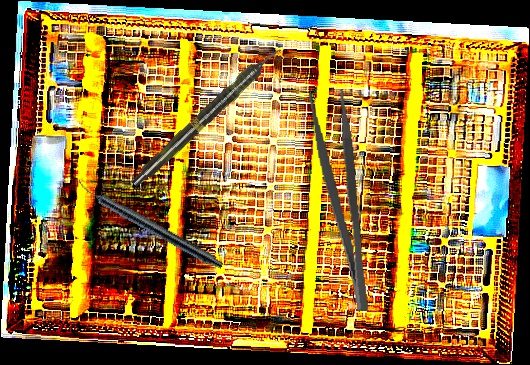Dressing Forceps: (306, 88, 375, 315)
Handpiece: (127, 42, 286, 191), (73, 177, 227, 272)
